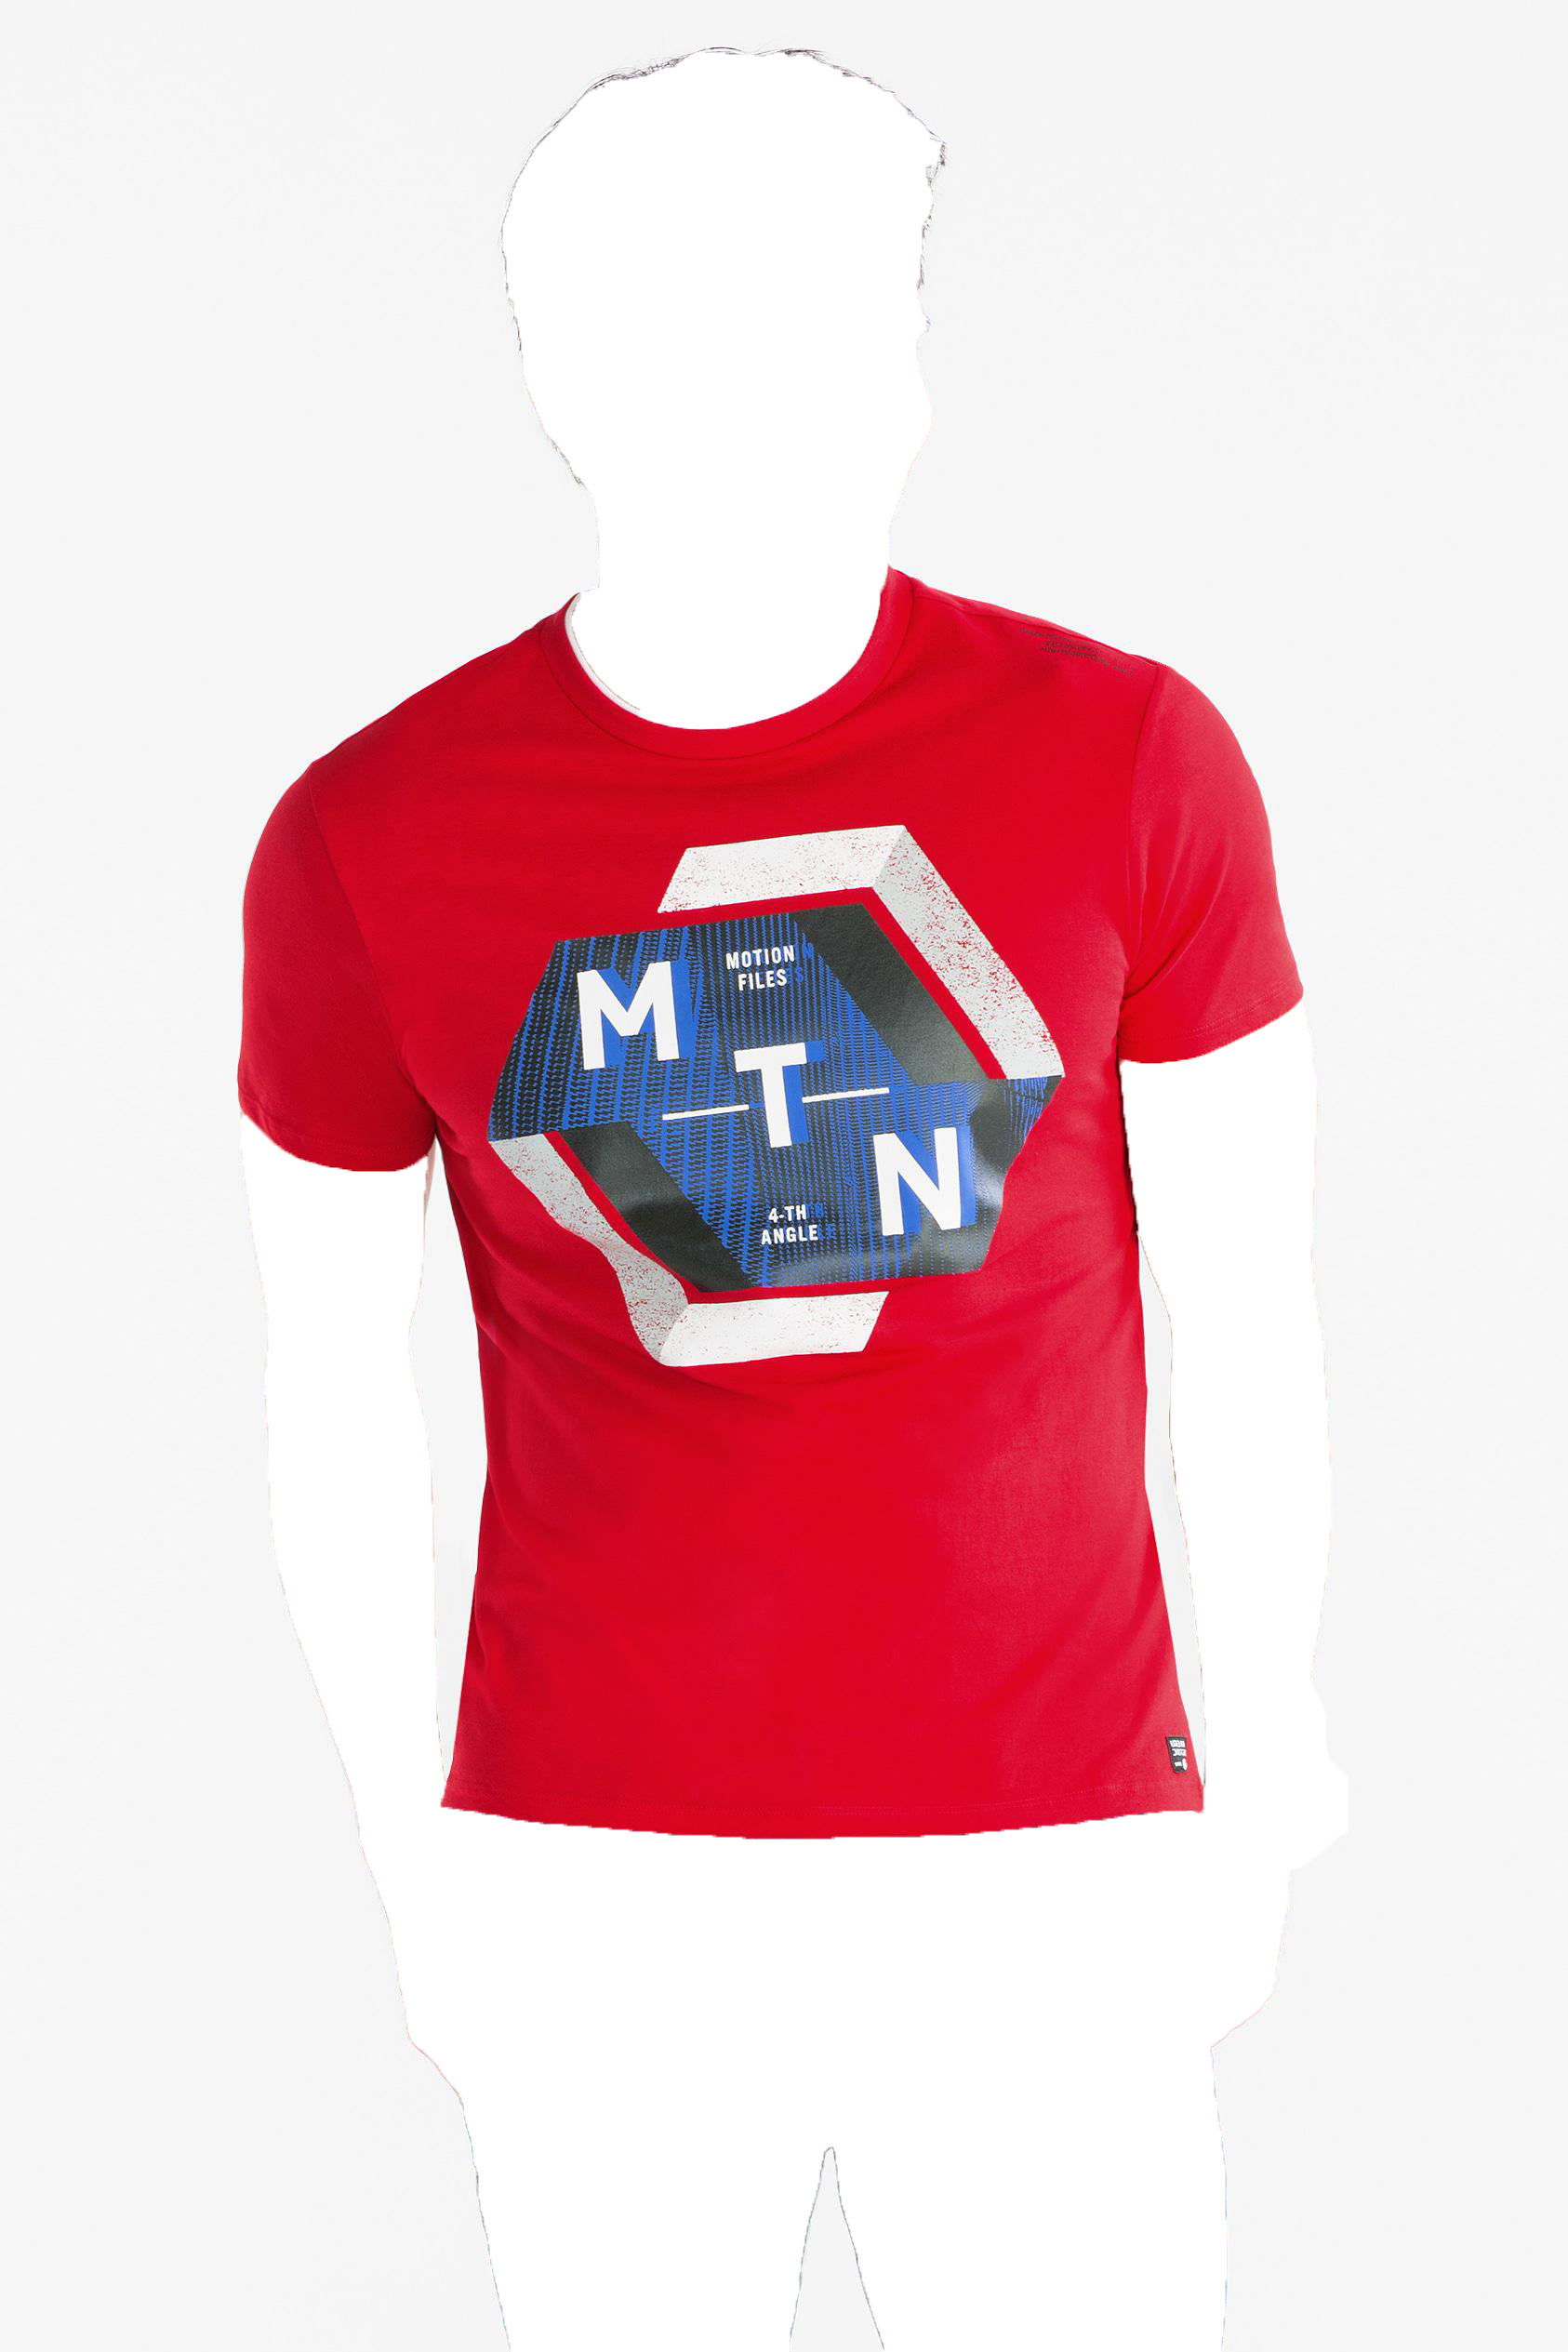teeshirt: (213, 539, 1328, 1872)
